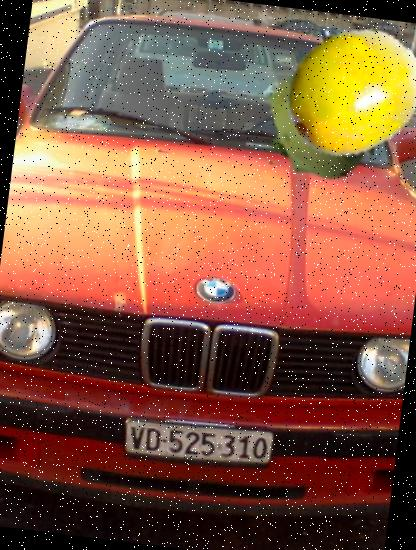Kohlrabi: (253, 60, 386, 192)
Maracuja: (275, 10, 416, 165)
